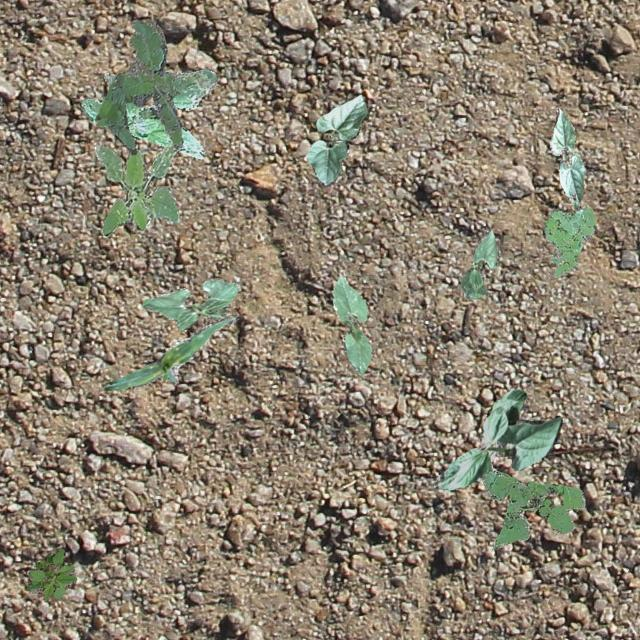crop: (432, 388, 560, 490), (102, 314, 235, 390), (306, 94, 368, 186), (142, 278, 238, 330), (332, 274, 372, 374), (548, 108, 584, 208), (459, 228, 498, 298)
weed: (80, 68, 216, 158), (95, 18, 182, 154), (482, 469, 584, 548), (94, 142, 178, 236), (542, 204, 594, 276), (26, 548, 76, 600)
